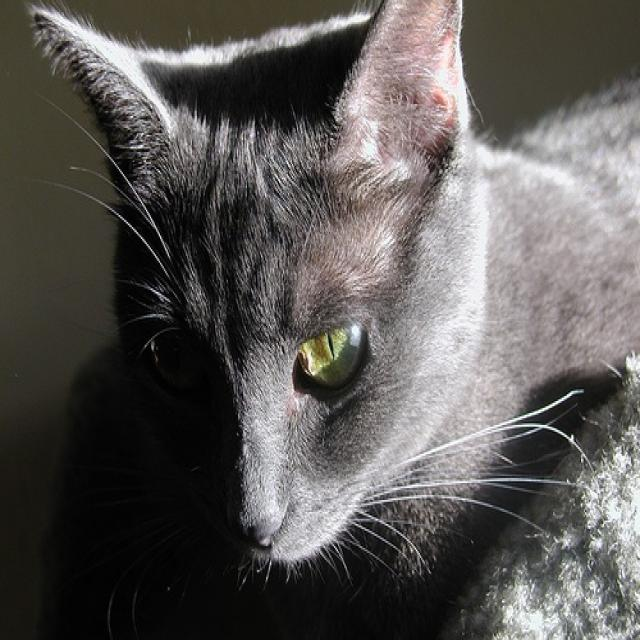cat: (28, 10, 639, 625)
